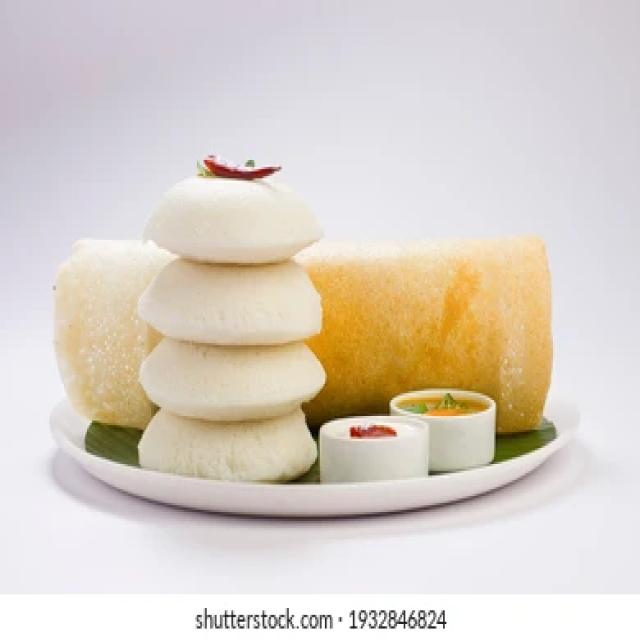DOSA: (311, 236, 550, 433), (56, 239, 167, 426)
IDLI: (149, 179, 329, 264), (139, 408, 316, 487), (146, 265, 319, 342), (143, 344, 324, 415)
